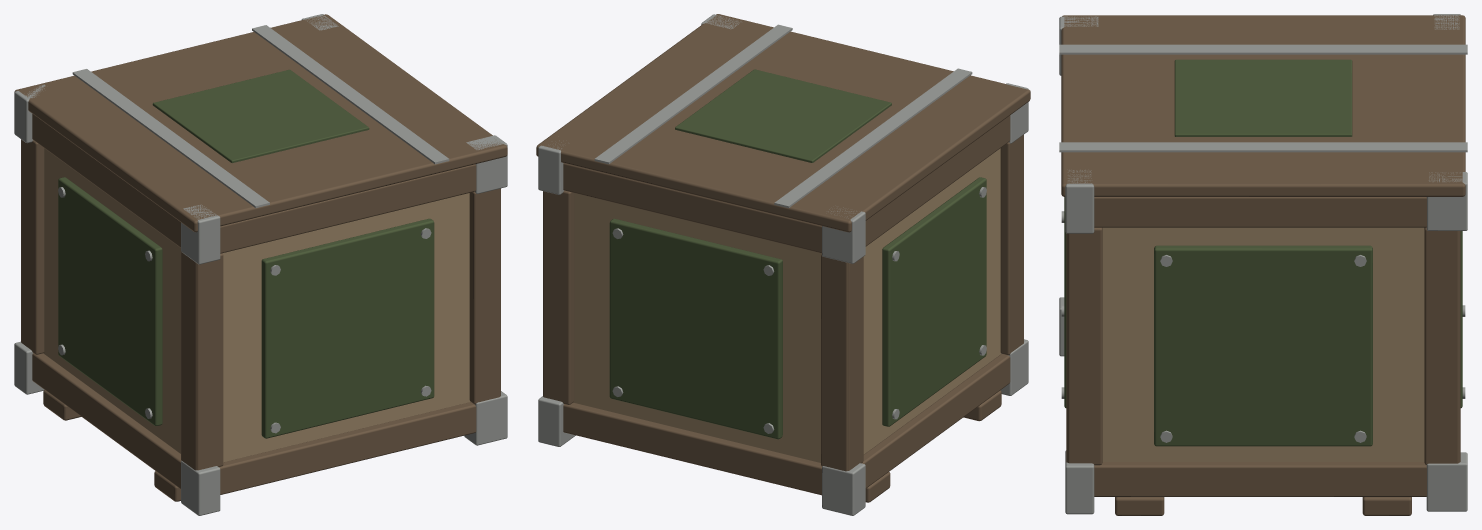
File: built-crate.glb
The picture shows the model from 3 angles, left to right: view 1: azimuth 30°, elevation 25°; view 2: azimuth 150°, elevation 25°; view 3: azimuth 270°, elevation 25°; orthographic projection. The views are drawn at different scales.
Parts seen in each view (by area): view 1: planks-dark, paint-olive, planks, steel; view 2: planks-dark, paint-olive, planks, steel; view 3: planks-dark, paint-olive, planks, steel.
Part boxes in pixels (bbox=[...]): planks-dark: bbox=[14, 14, 507, 501]; paint-olive: bbox=[58, 69, 434, 438]; planks: bbox=[43, 148, 470, 462]; steel: bbox=[14, 14, 507, 515]; planks-dark: bbox=[536, 14, 1030, 502]; paint-olive: bbox=[609, 69, 986, 439]; planks: bbox=[573, 148, 1001, 462]; steel: bbox=[538, 14, 1028, 515]; planks-dark: bbox=[1061, 15, 1465, 515]; paint-olive: bbox=[1064, 59, 1462, 446]; planks: bbox=[1102, 227, 1424, 461]; steel: bbox=[1059, 14, 1467, 514].
Size of the model in its own units: 1.98 by 1.8 by 1.98.
